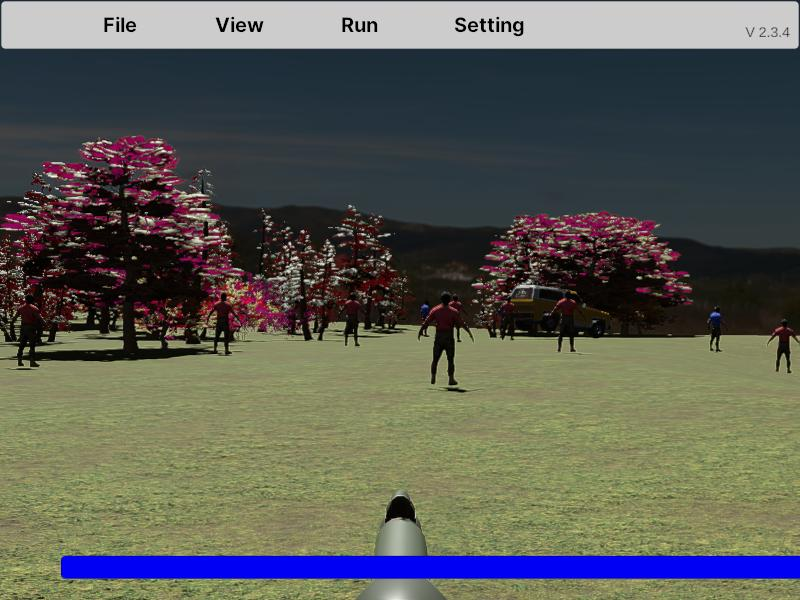Human: (418, 291, 472, 387), (12, 291, 46, 367), (549, 289, 587, 353), (207, 290, 242, 356), (768, 317, 800, 374), (337, 290, 368, 347)
car: (498, 284, 610, 337)
